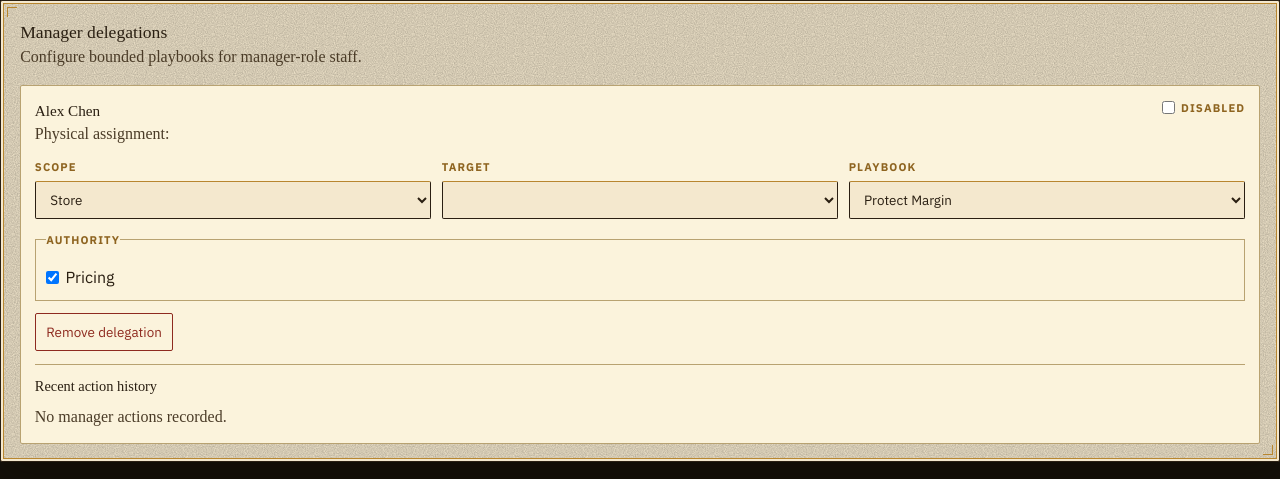
Test: ManagerDelegationPanel › forces Prefer Local Supply to use a city scope
Select "Prefer Local Supply" in the dropdown named "Playbook for Alex Chen" at (1047, 200), box [849,181,1245,219]
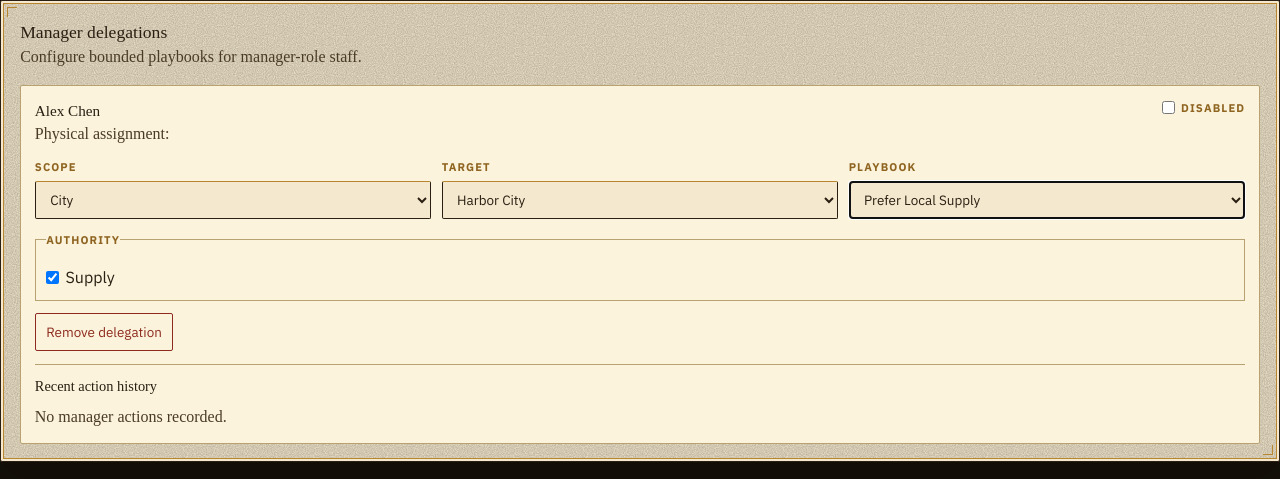
expect the dropdown named "Delegation scope for Alex Chen" shows "City": met, box [35,181,431,219]
